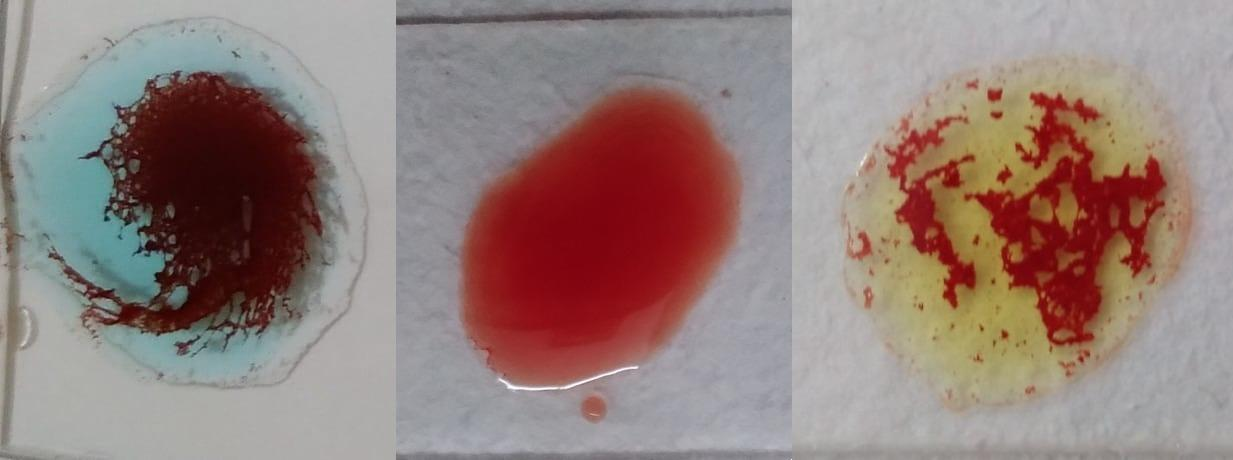A: (39, 6, 361, 387)
B: (854, 58, 1180, 398)
